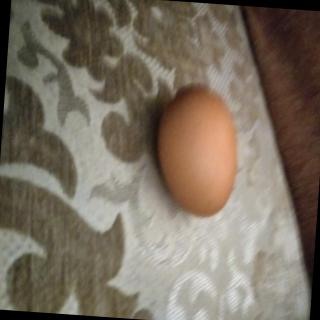Telur: (150, 83, 249, 218)
